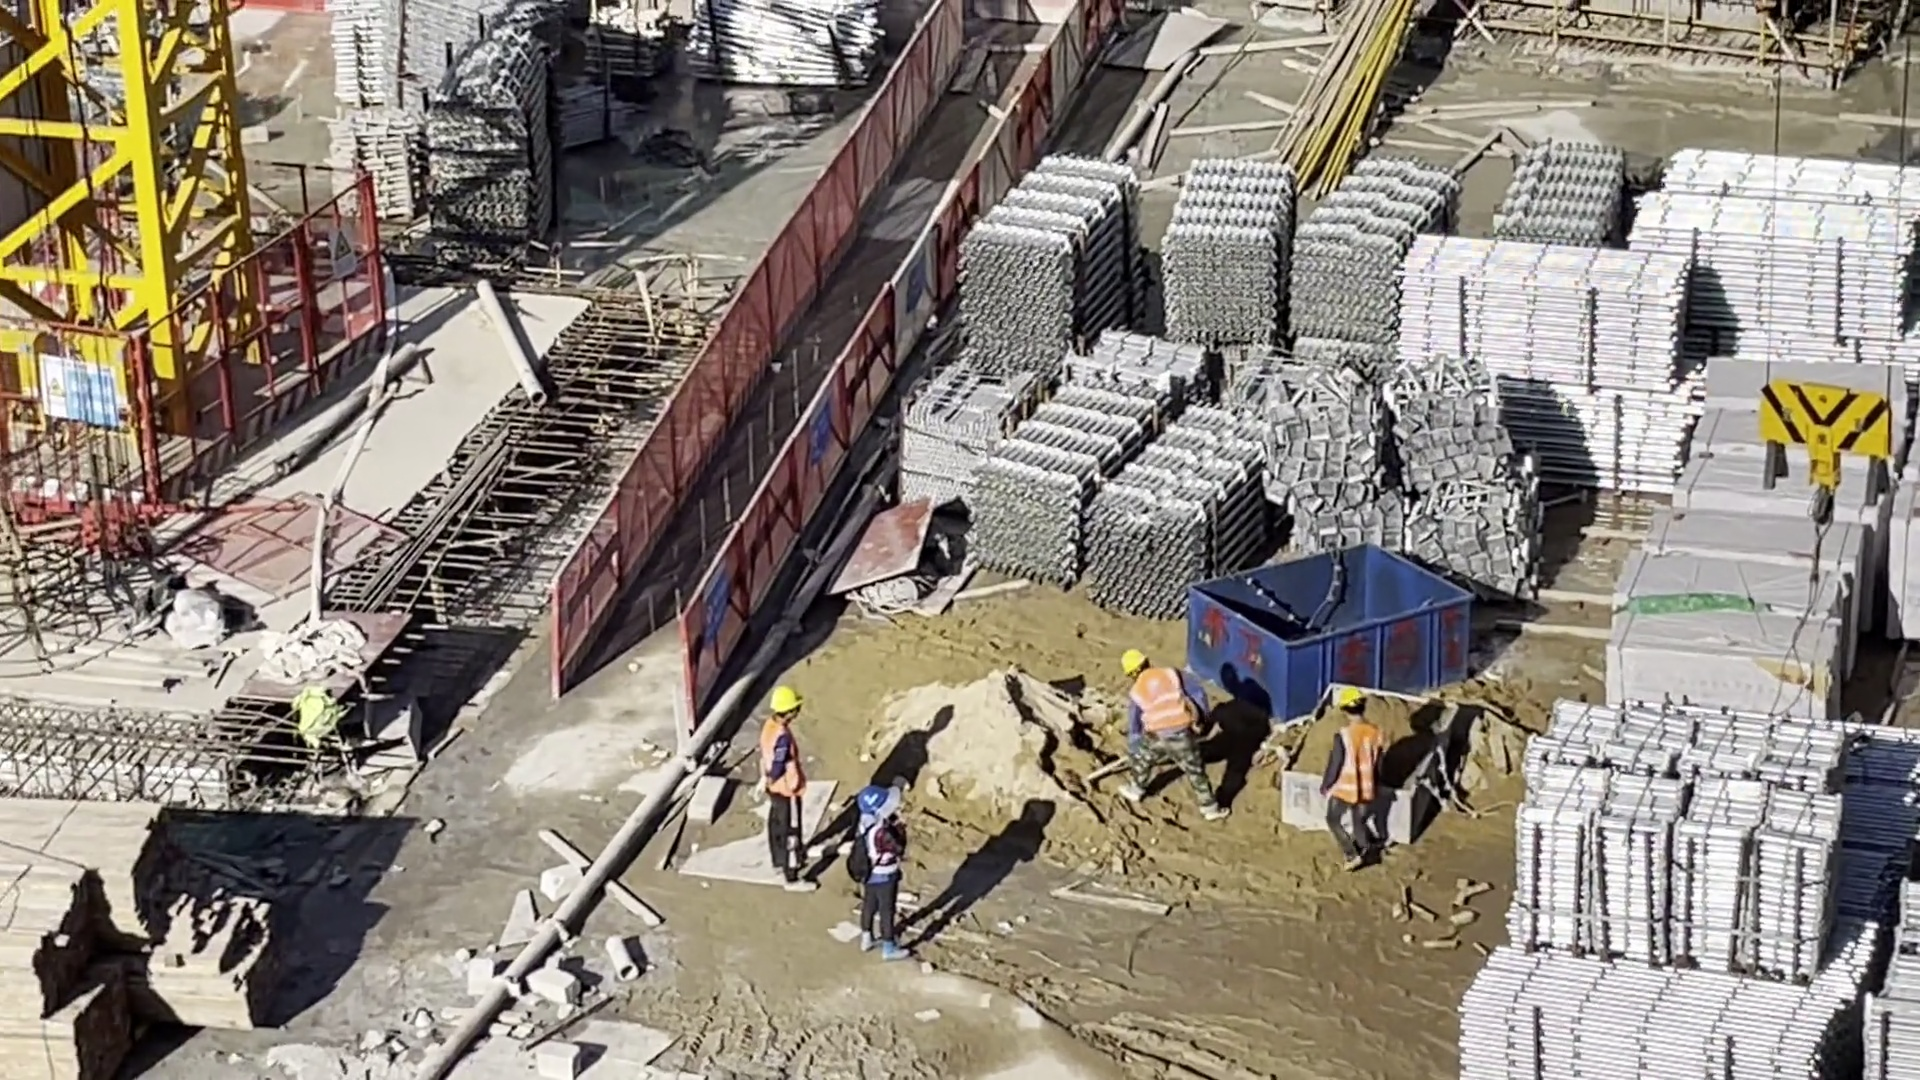fence: (540, 1, 1089, 719)
helmet: (857, 780, 906, 821), (1110, 643, 1162, 681), (1322, 685, 1367, 711), (763, 691, 802, 719)
hook: (1741, 352, 1906, 524)
hopper: (1187, 538, 1465, 691), (1279, 683, 1428, 816)
person: (1103, 647, 1223, 827), (746, 683, 824, 899), (1311, 691, 1395, 878), (848, 783, 911, 963)
scaffold: (980, 150, 1629, 552), (1533, 687, 1920, 1061), (1663, 143, 1918, 351)
vest: (751, 713, 804, 796), (1121, 669, 1191, 729), (1333, 722, 1382, 792)
wood: (5, 771, 293, 1057)
